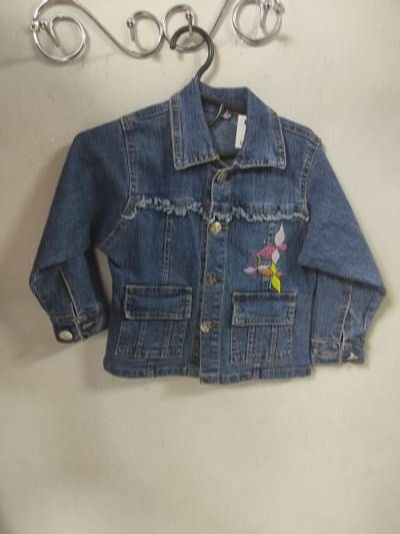Blazer: (33, 52, 387, 389)
